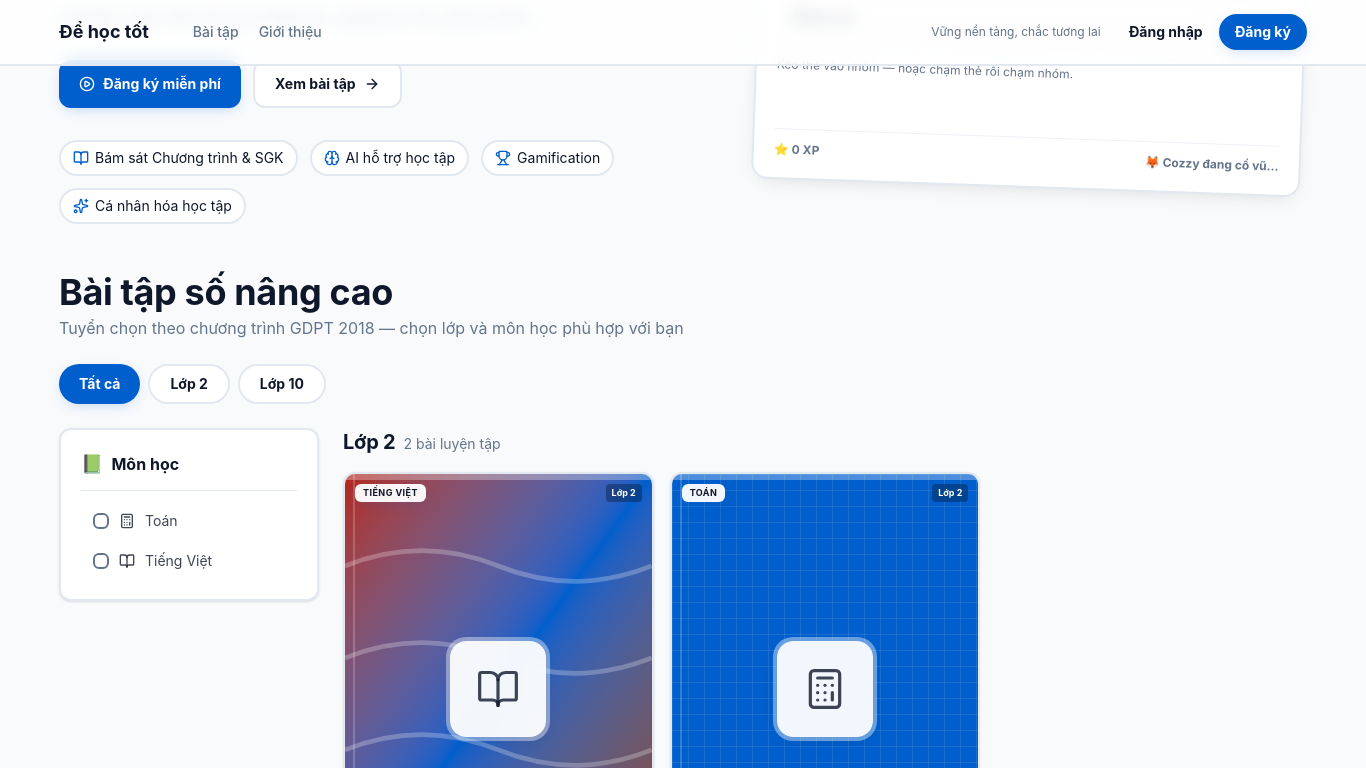
Test: PracticeLandingPage — sidebar môn theo khối › chọn khối thì sidebar chỉ còn môn có bài ở khối đó
The image size is (1366, 768).
(page scrolled)
Expected: the button "Toán" is shown, [81,503,297,539]
Expected: the button "Tiếng Việt" is shown, [81,543,297,579]
Click the button "Lớp 10".
click(282, 384)  # box [238,364,326,404]
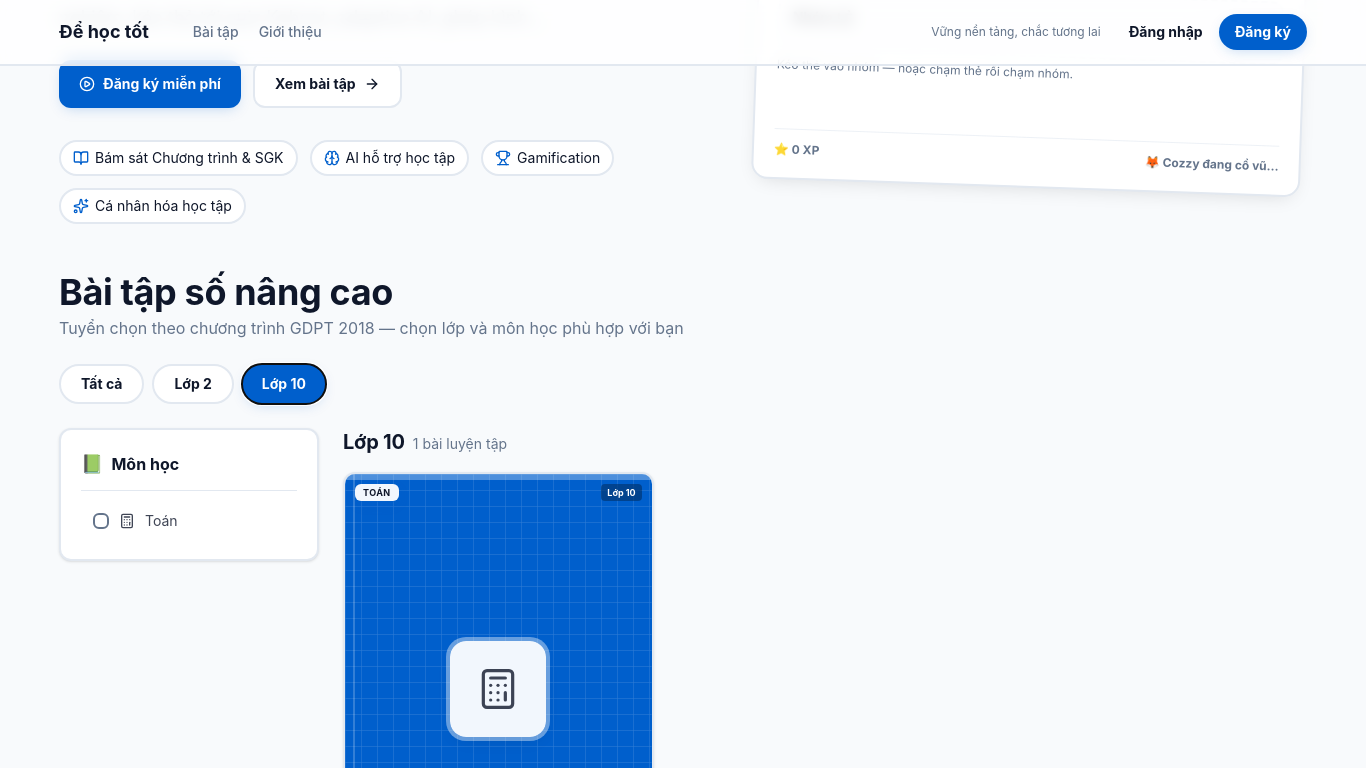
Expected: the button "Toán" is shown, [81,503,297,539]
Result: the button "Tiếng Việt" is gone
